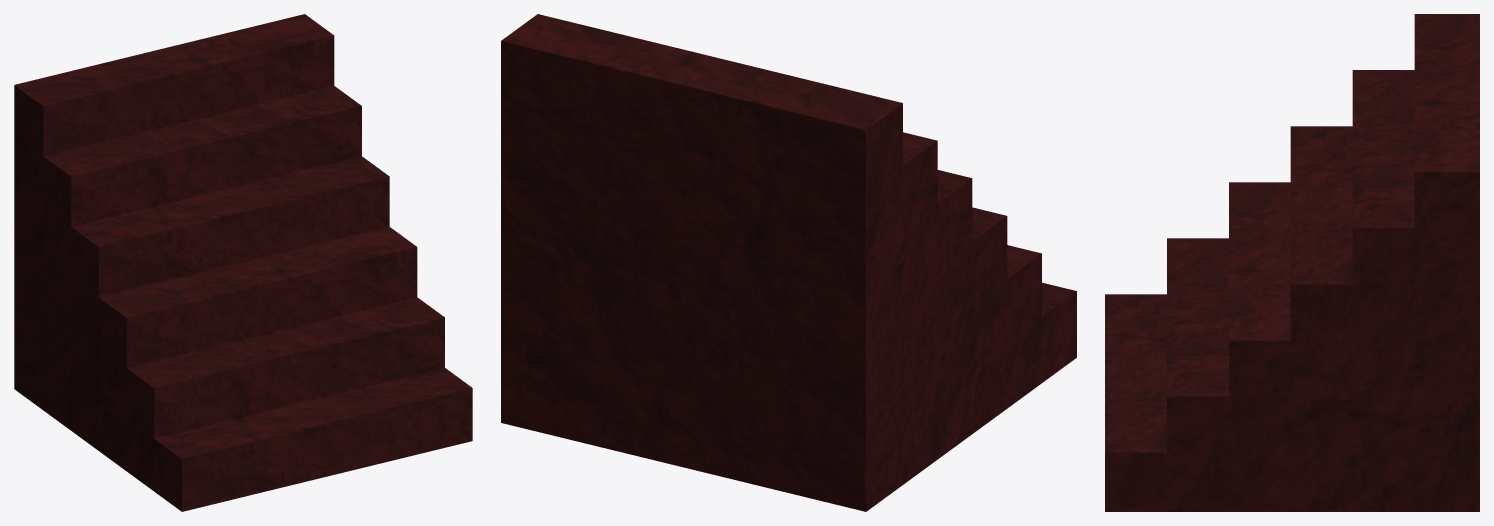
The model's file is Stairs.fbx.
The picture shows the model from 3 angles, left to right: view 1: azimuth 30°, elevation 25°; view 2: azimuth 150°, elevation 25°; view 3: azimuth 270°, elevation 25°; orthographic projection. The views are drawn at different scales.
Parts seen in each view (by area): view 1: Cube.011; view 2: Cube.011; view 3: Cube.011.
Part boxes in pixels (bbox=[...]): Cube.011: bbox=[14, 14, 472, 511]; Cube.011: bbox=[501, 14, 1076, 511]; Cube.011: bbox=[1105, 14, 1479, 511].
Bounding box in the file's own units: 100 × 100 × 100.
